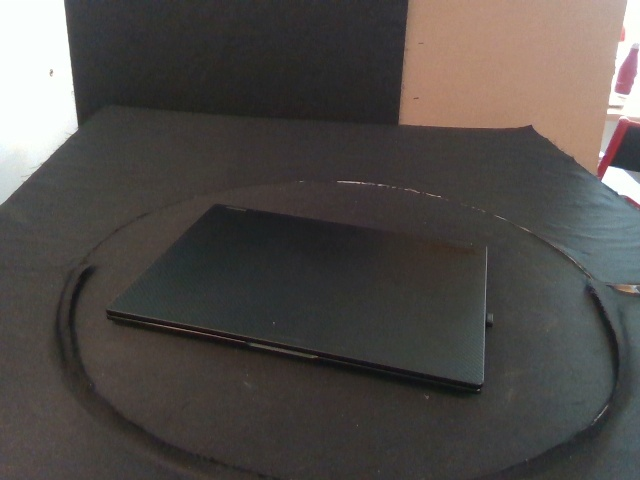laptop: (105, 202, 488, 397)
